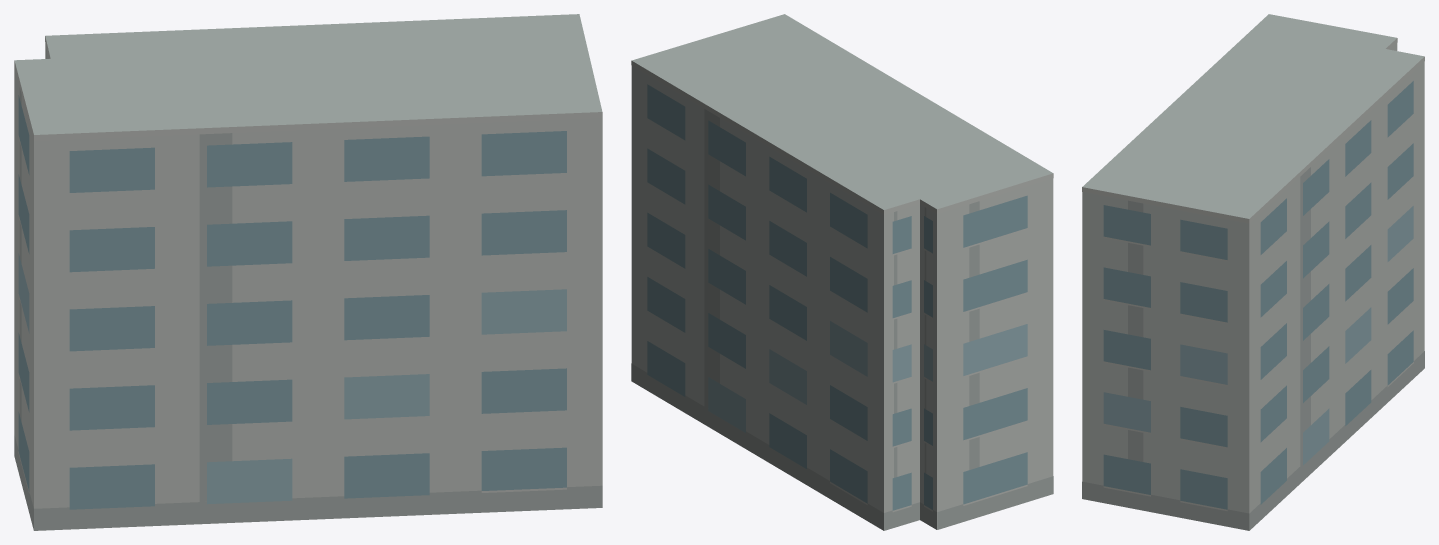
Rendered from survey-upis-32868161.glb.
The picture shows the model from 3 angles, left to right: view 1: azimuth 30°, elevation 25°; view 2: azimuth 150°, elevation 25°; view 3: azimuth 270°, elevation 25°; orthographic projection. The views are drawn at different scales.
Visible parts, largest first — view 1: survey-upis-32868161.tmp; view 2: survey-upis-32868161.tmp; view 3: survey-upis-32868161.tmp.
Boxes of the visible parts, x1,y1,x2,y2 form: survey-upis-32868161.tmp: (14,14,602,530); survey-upis-32868161.tmp: (631,14,1053,530); survey-upis-32868161.tmp: (1082,14,1424,530).
Bounding box in the file's own units: 22.35 × 15.85 × 15.79.
